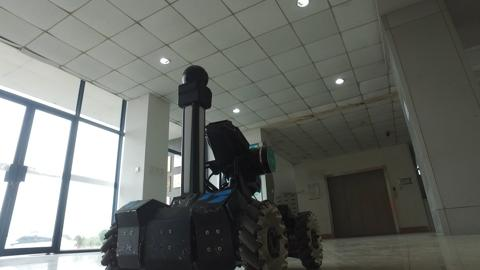chariot: (91, 61, 327, 270)
